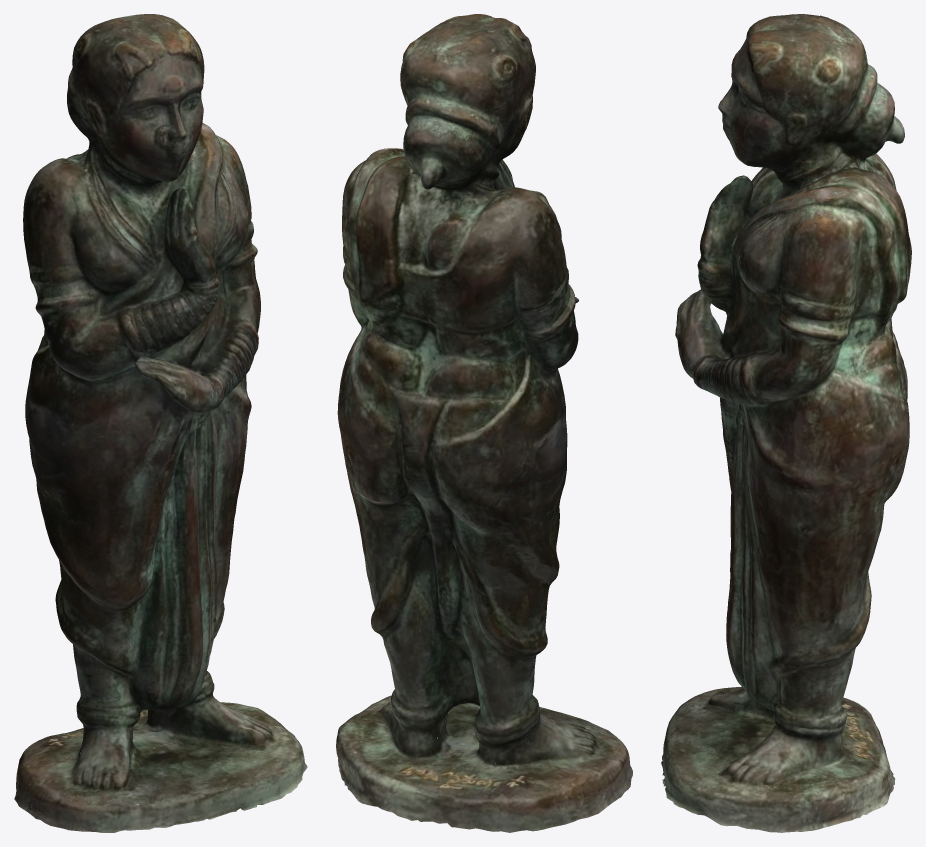
File: telangana-woman.glb
The picture shows the model from 3 angles, left to right: view 1: azimuth 30°, elevation 25°; view 2: azimuth 150°, elevation 25°; view 3: azimuth 270°, elevation 25°; orthographic projection.
Parts seen in each view (by area): view 1: Woman_export; view 2: Woman_export; view 3: Woman_export.
Boxes of the visible parts, box(x1,y1,x2,y2) form: Woman_export: box(14, 14, 307, 832); Woman_export: box(336, 14, 632, 832); Woman_export: box(661, 14, 911, 832).
Bounding box in the file's own units: 0.1821 × 0.5 × 0.152.
Materials: 1 (1 with a texture image).
